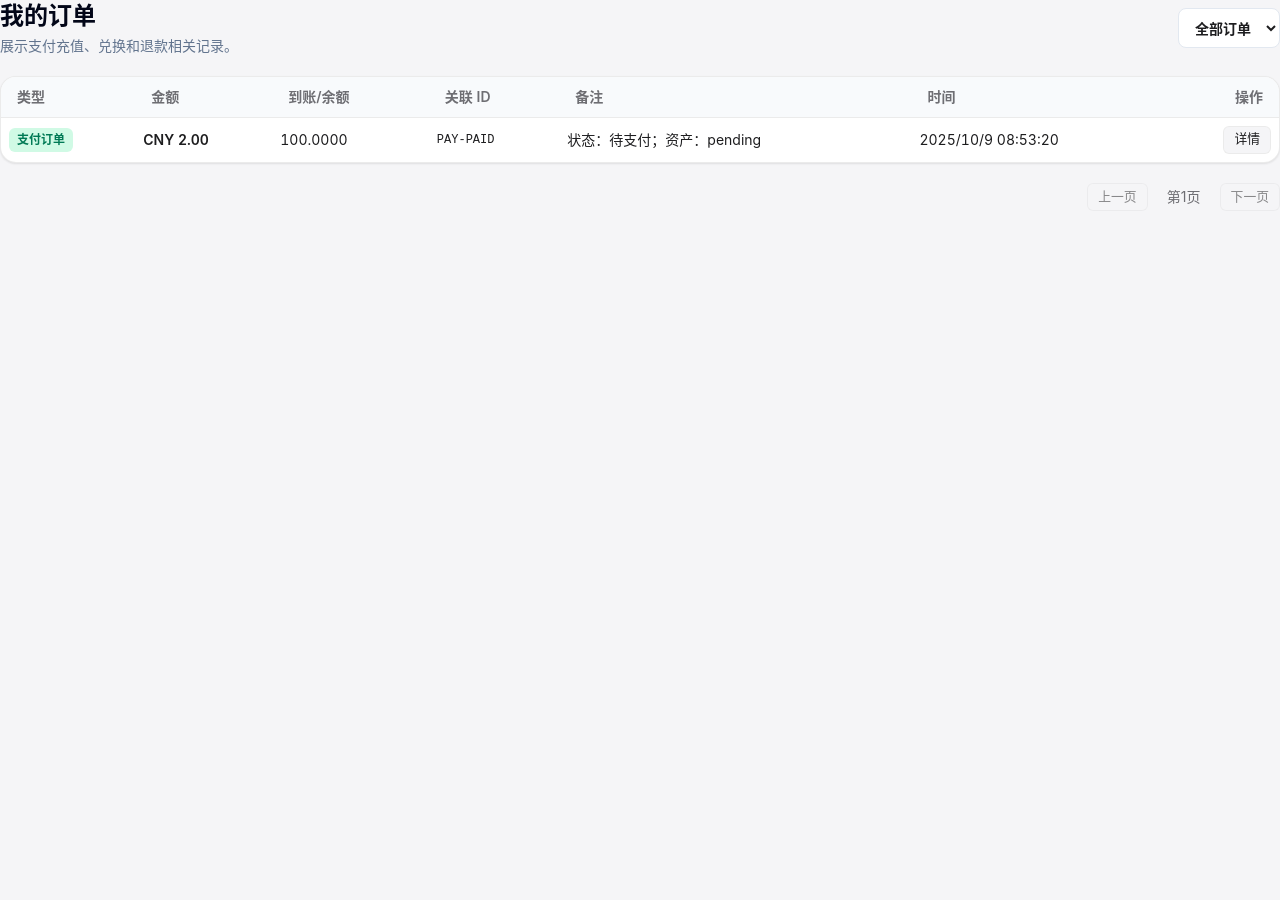
Scenario: OrdersPage › shows paid state instead of disabled continue payment after detail refresh
This screenshot has width=1280, height=900.
Click the button with aria-label "查看订单 PAY-PAID".
click(1247, 140)  # box left=1223, top=126, right=1271, bottom=154
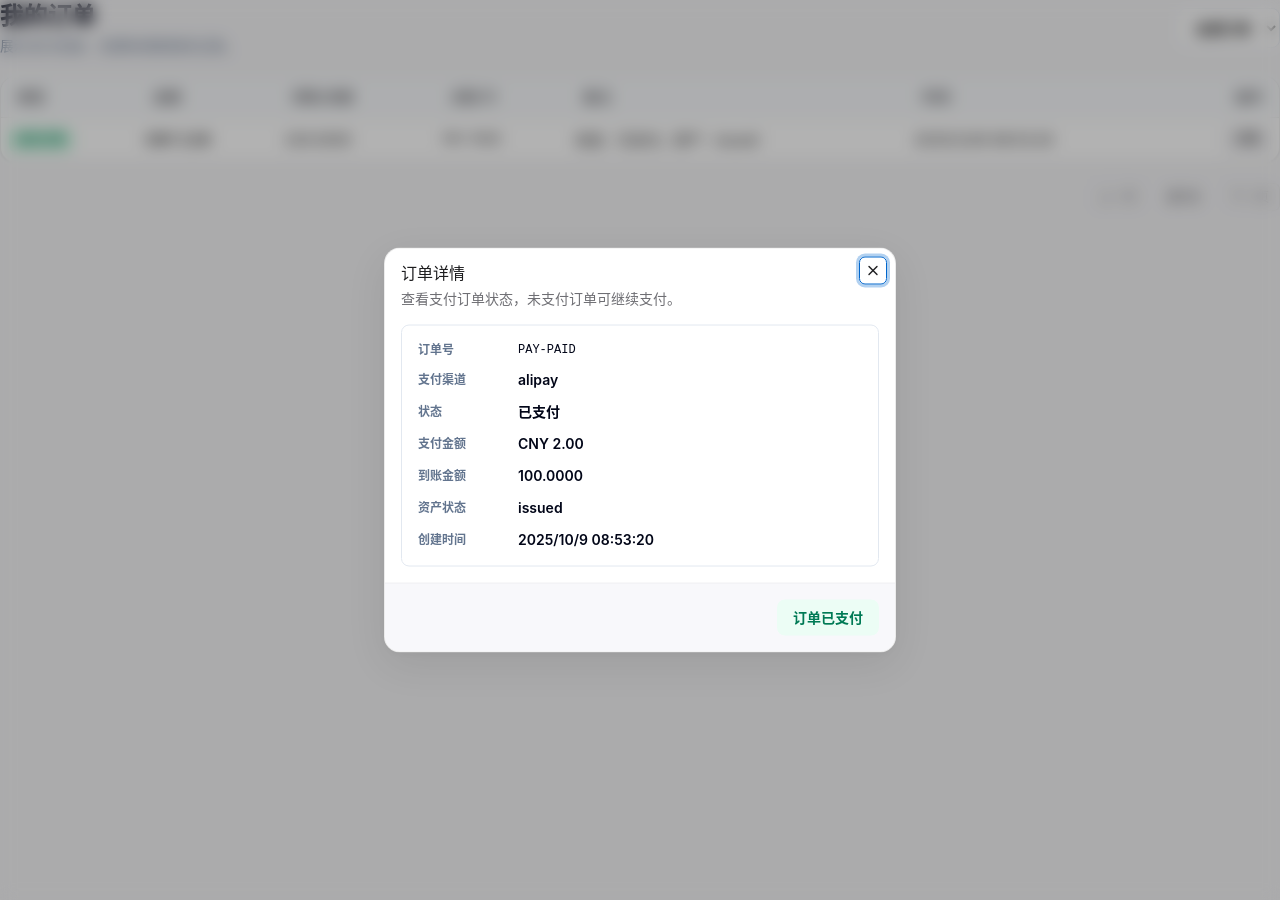
Expected: the text "已支付" is shown, left=518, top=402, right=560, bottom=420
Expected: the text "订单已支付" is shown, left=777, top=600, right=879, bottom=636
